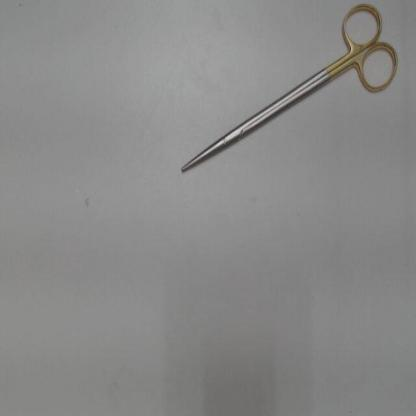7 Metzenbaum Scissors: (178, 2, 402, 176)
